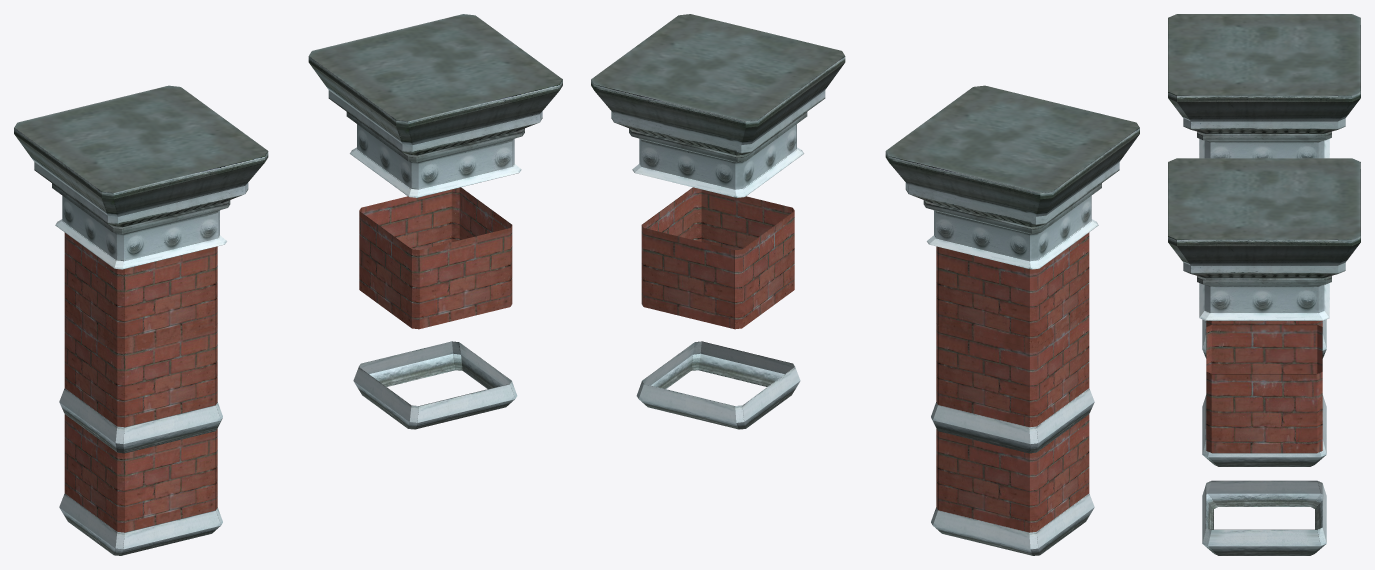
The model's file is Rot Weisse Hamburg Rothenbaum Säule Garten 11.fbx.
The picture shows the model from 3 angles, left to right: view 1: azimuth 30°, elevation 25°; view 2: azimuth 150°, elevation 25°; view 3: azimuth 270°, elevation 25°; orthographic projection.
Parts seen in each view (by area): view 1: Top Tile.001, Top Tile, Middle Brick Tile, Middle Brick Tile.001, Middle Brick Tile.003, Middle Brick Tile.002, Seperation Tile.001, Seperation Tile, Seperation Tile.002; view 2: Top Tile.001, Top Tile, Middle Brick Tile, Middle Brick Tile.001, Middle Brick Tile.003, Middle Brick Tile.002, Seperation Tile.001, Seperation Tile, Seperation Tile.002; view 3: Top Tile, Top Tile.001, Middle Brick Tile, Seperation Tile.001, Seperation Tile.002, Middle Brick Tile.001, Seperation Tile.
Boxes of the visible parts, left/top/right/bottom form: Top Tile.001: left=14, top=85, right=268, bottom=269; Top Tile: left=308, top=14, right=562, bottom=197; Middle Brick Tile: left=359, top=187, right=512, bottom=329; Middle Brick Tile.001: left=64, top=309, right=217, bottom=427; Middle Brick Tile.003: left=64, top=414, right=217, bottom=532; Middle Brick Tile.002: left=64, top=232, right=217, bottom=347; Seperation Tile.001: left=353, top=341, right=517, bottom=429; Seperation Tile: left=59, top=388, right=222, bottom=453; Seperation Tile.002: left=59, top=493, right=222, bottom=555; Top Tile.001: left=885, top=85, right=1139, bottom=269; Top Tile: left=591, top=14, right=845, bottom=197; Middle Brick Tile: left=641, top=187, right=794, bottom=329; Middle Brick Tile.001: left=936, top=309, right=1089, bottom=427; Middle Brick Tile.003: left=936, top=414, right=1089, bottom=532; Middle Brick Tile.002: left=936, top=232, right=1089, bottom=347; Seperation Tile.001: left=636, top=341, right=800, bottom=429; Seperation Tile: left=931, top=388, right=1094, bottom=453; Seperation Tile.002: left=931, top=493, right=1094, bottom=555; Top Tile: left=1168, top=158, right=1360, bottom=320; Top Tile.001: left=1168, top=14, right=1360, bottom=158; Middle Brick Tile: left=1206, top=324, right=1322, bottom=453; Seperation Tile.001: left=1202, top=480, right=1326, bottom=555; Seperation Tile.002: left=1202, top=395, right=1326, bottom=466; Middle Brick Tile.001: left=1206, top=320, right=1322, bottom=326; Seperation Tile: left=1202, top=319, right=1326, bottom=358.
Size of the model in its own units: 934 by 749 by 338.
